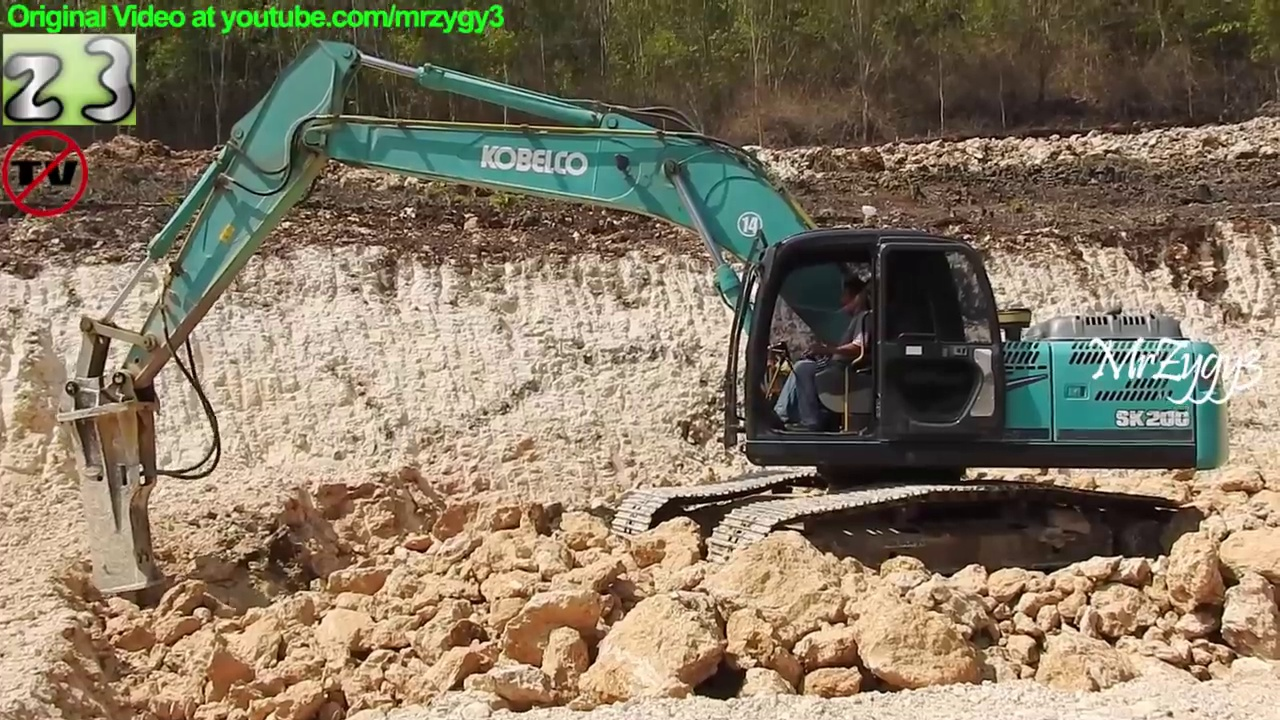excavator breaker: (58, 34, 1236, 617)
